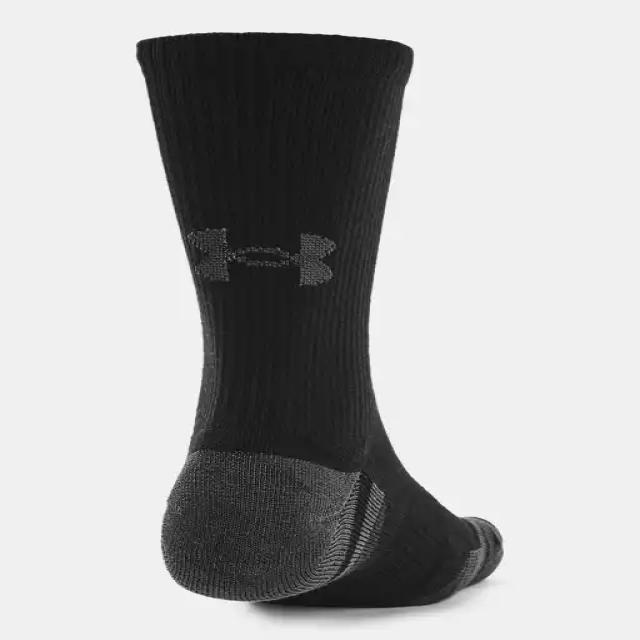sock: (135, 30, 503, 607)
